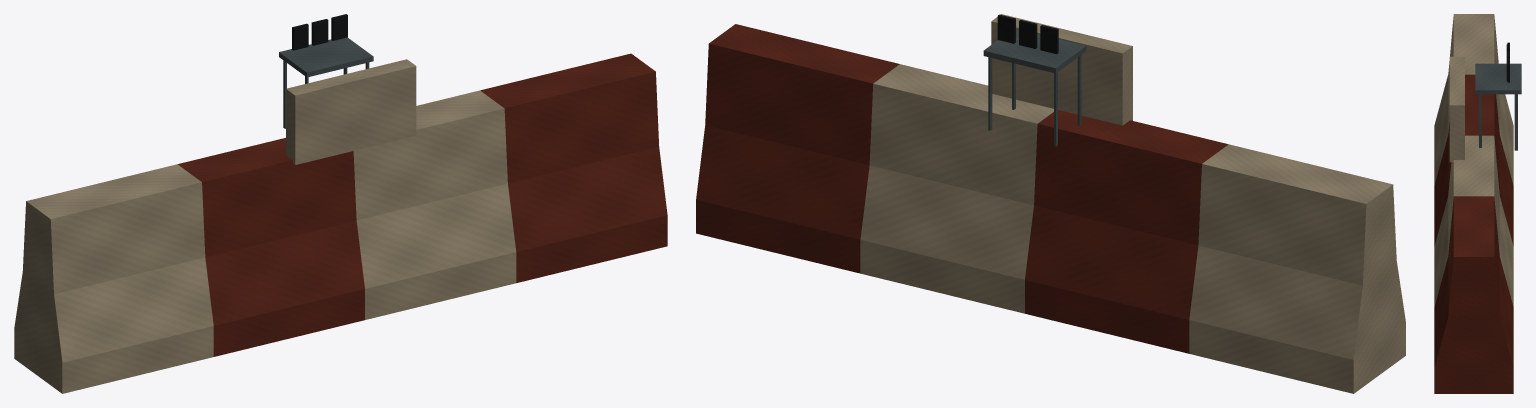
The model's file is pit-wall.glb.
The picture shows the model from 3 angles, left to right: view 1: azimuth 30°, elevation 25°; view 2: azimuth 150°, elevation 25°; view 3: azimuth 270°, elevation 25°; orthographic projection. The views are drawn at different scales.
Visible parts, largest first — view 1: pit-wall-barrierWall(Clone), pit-wall-monitor-stand_0, pit-wall-monitor-stand_1, pit-wall-monitor-stand_3; view 2: pit-wall-barrierWall(Clone), pit-wall-monitor-stand_0, pit-wall-monitor-stand_1, pit-wall-monitor-stand_2; view 3: pit-wall-barrierWall(Clone), pit-wall-monitor-stand_1, pit-wall-monitor-stand_0, pit-wall-monitor-stand_2.
Part boxes in pixels (box(x1,y1,x2,y2)): pit-wall-barrierWall(Clone): box(14, 53, 667, 393); pit-wall-monitor-stand_0: box(286, 59, 416, 164); pit-wall-monitor-stand_1: box(279, 37, 373, 128); pit-wall-monitor-stand_3: box(294, 17, 347, 48); pit-wall-barrierWall(Clone): box(696, 24, 1405, 393); pit-wall-monitor-stand_0: box(991, 14, 1132, 125); pit-wall-monitor-stand_1: box(983, 29, 1086, 146); pit-wall-monitor-stand_2: box(997, 14, 1058, 54); pit-wall-barrierWall(Clone): box(1434, 14, 1513, 393); pit-wall-monitor-stand_1: box(1475, 63, 1521, 150); pit-wall-monitor-stand_0: box(1449, 56, 1464, 162); pit-wall-monitor-stand_2: box(1507, 42, 1509, 82).
Size of the model in its own units: 4 by 1.68 by 0.605.
4 materials, 4 textured.
